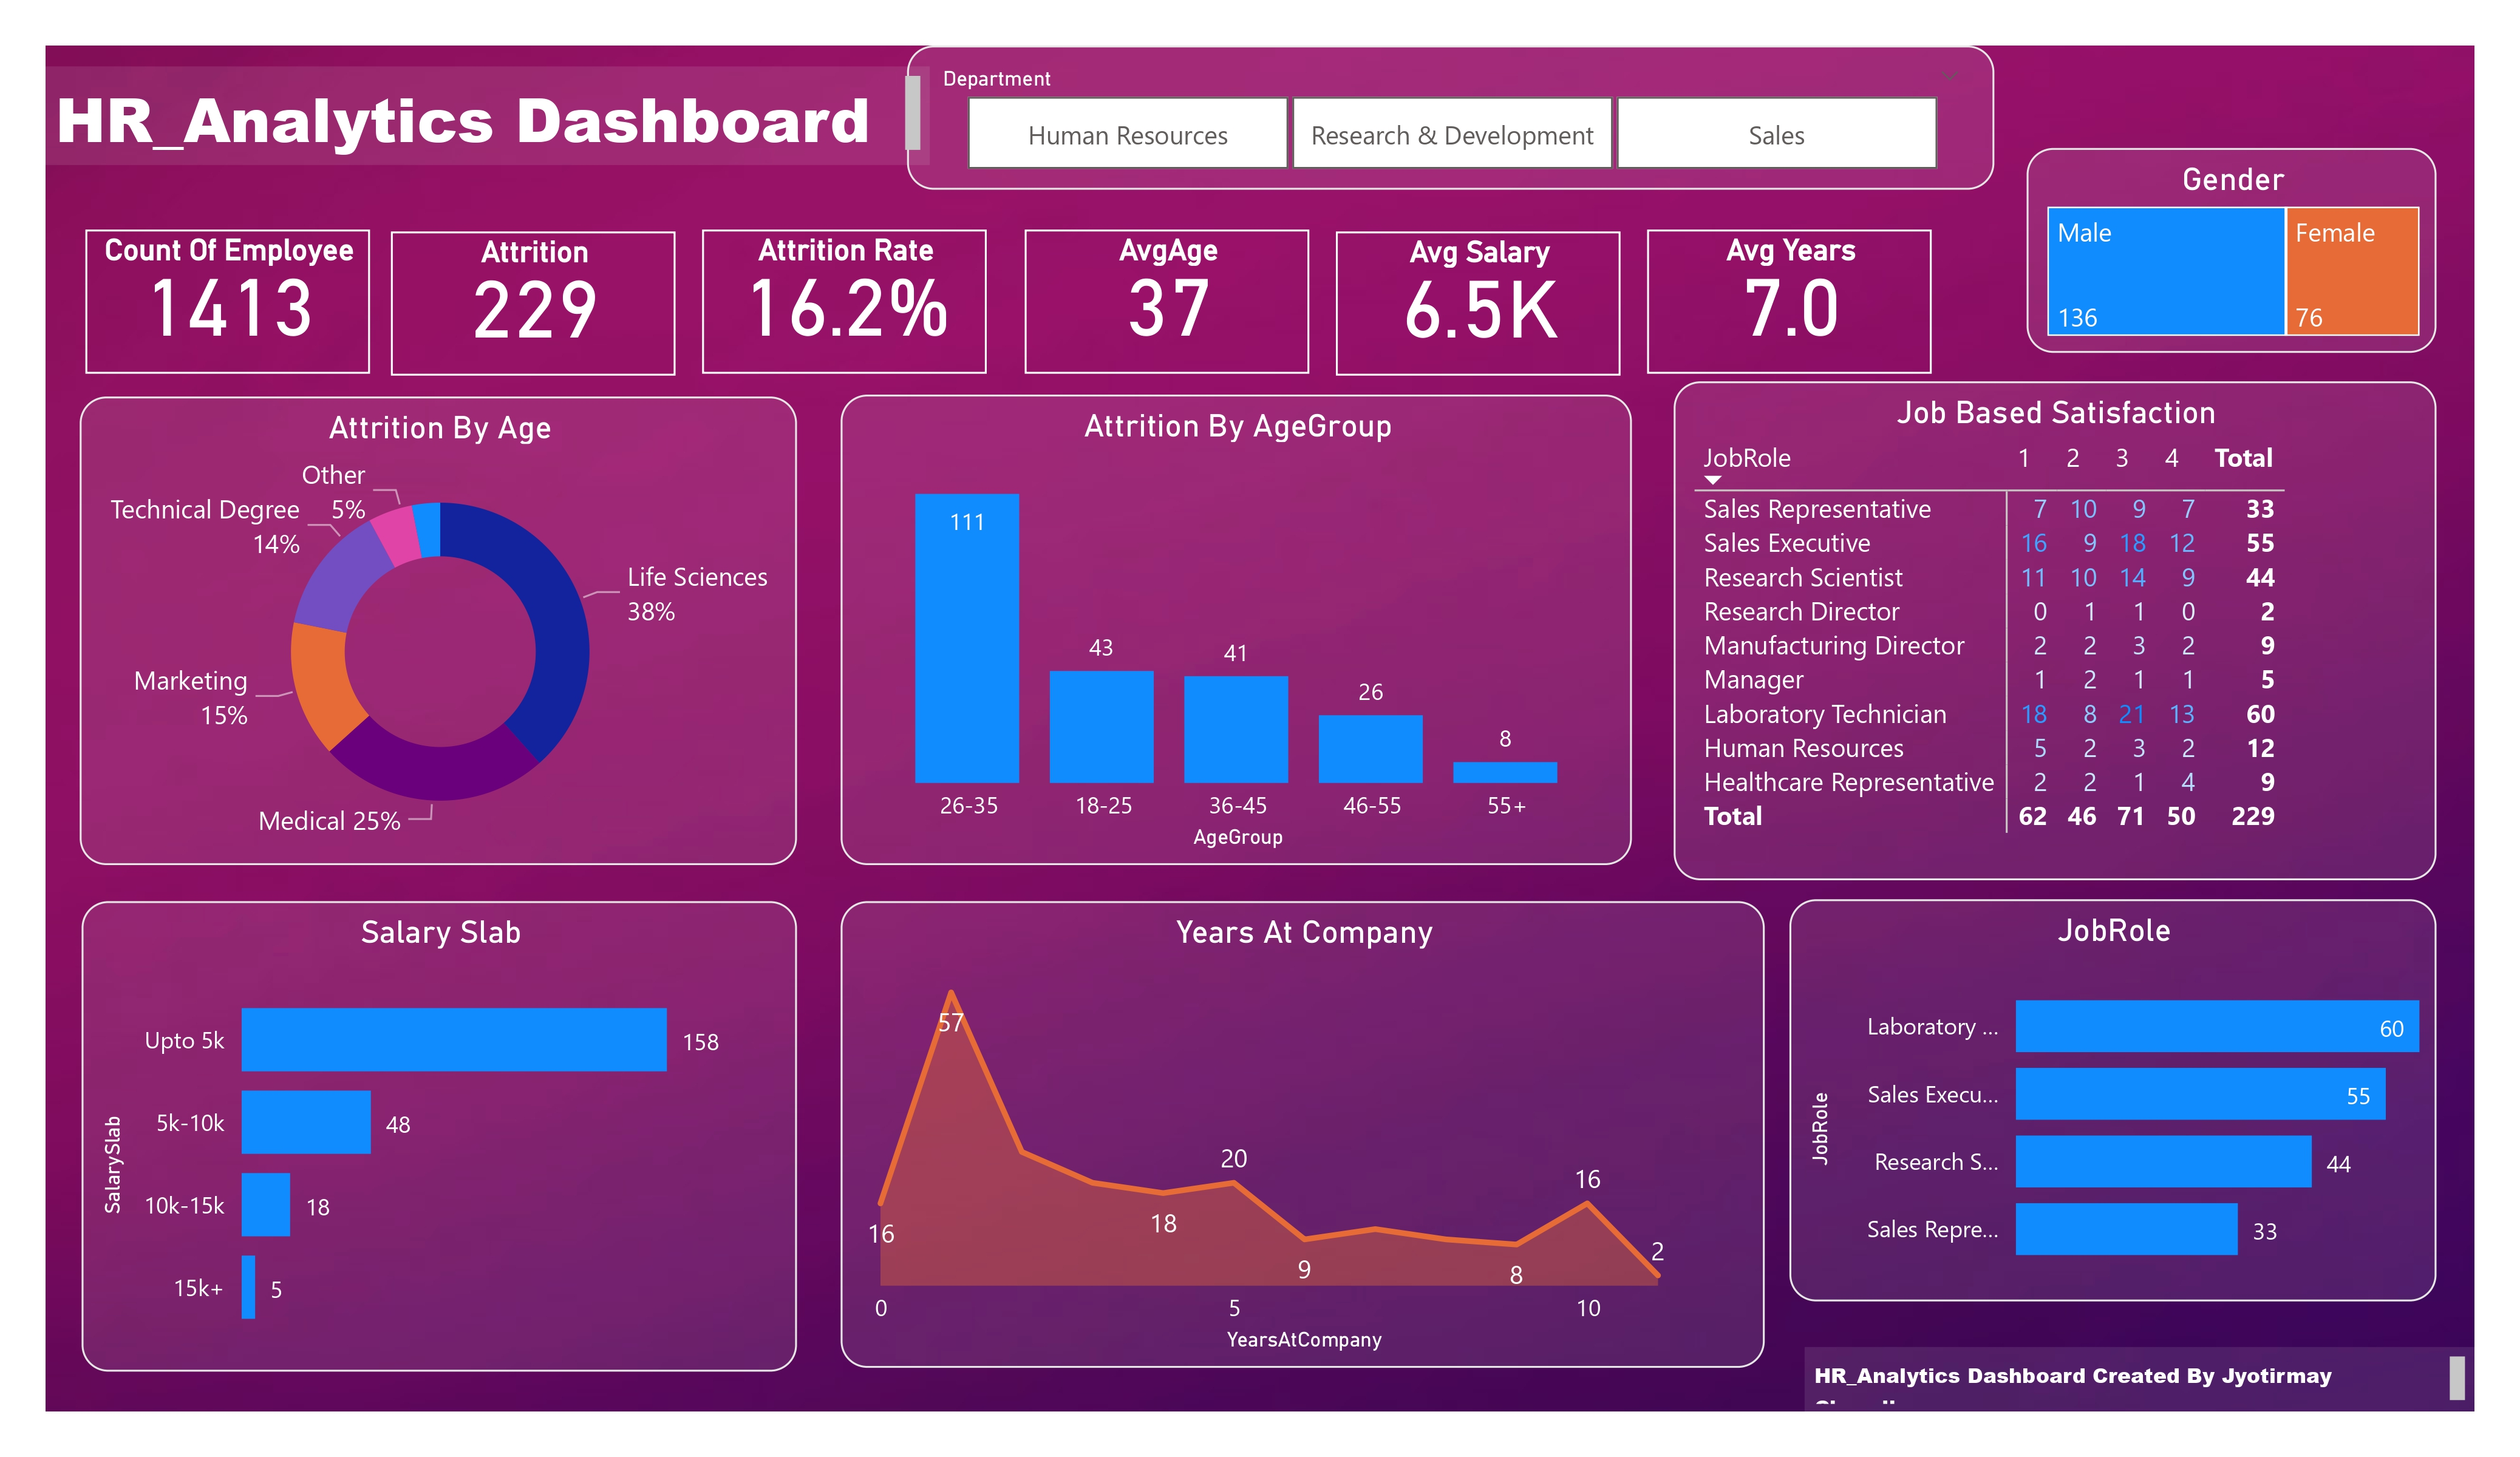

This screenshot's page, from the dashboard's own definition file:
{"tool":"powerbi","page":{"name":"Page 1","canvas":[1280,720],"ordinal":0},"visuals":[{"type":"card","title":"Count Of Employee","fields":{"Values":["CountNonNull(HR_Analytics.EmpID)"]},"box":[21.3,97.3,149.9,75.6],"z":0},{"type":"card","title":"Attrition Rate","fields":{"Values":["HR_Analytics.AttritionRate"]},"box":[345.8,96.9,149.9,75.6],"z":1000},{"type":"card","title":"AvgAge","fields":{"Values":["Avg(HR_Analytics.Age)"]},"box":[516.4,96.9,149.9,75.6],"z":2000},{"type":"card","title":"Attrition ","fields":{"Values":["Sum(HR_Analytics.AttritionCount)"]},"box":[182.2,98.3,149.9,75.6],"z":3000},{"type":"card","title":"Avg Salary ","fields":{"Values":["Avg(HR_Analytics.MonthlyIncome)"]},"box":[680,98.3,149.9,75.6],"z":4000},{"type":"card","title":"Avg Years","fields":{"Values":["Avg(HR_Analytics.YearsAtCompany)"]},"box":[843.7,96.9,149.9,75.6],"z":5000},{"type":"donutChart","title":"Attrition By Age","fields":{"Category":["HR_Analytics.EducationField"],"Y":["Sum(HR_Analytics.AttritionCount)"]},"box":[17.7,185.4,378.8,246.6],"z":6000},{"type":"columnChart","title":"Attrition By AgeGroup","fields":{"Category":["HR_Analytics.AgeGroup"],"Y":["Sum(HR_Analytics.AttritionCount)"]},"box":[419.5,184.3,416.7,247.5],"z":7000},{"type":"pivotTable","title":"Job Based Satisfaction","fields":{"Rows":["HR_Analytics.JobRole"],"Columns":["HR_Analytics.JobSatisfaction"],"Values":["Sum(HR_Analytics.AttritionCount)"]},"box":[858.2,177.4,401.6,262.7],"z":8000},{"type":"barChart","title":"Salary Slab","fields":{"Category":["HR_Analytics.SalarySlab"],"Y":["Sum(HR_Analytics.AttritionCount)"]},"box":[19.3,451.1,376.8,247.5],"z":9000},{"type":"barChart","title":"JobRole","fields":{"Category":["HR_Analytics.JobRole"],"Y":["Sum(HR_Analytics.AttritionCount)"]},"box":[918.7,449.7,341.1,211.8],"z":10000},{"type":"areaChart","title":"Years At Company","fields":{"Category":["HR_Analytics.YearsAtCompany"],"Y":["Sum(HR_Analytics.AttritionCount)"]},"box":[419.5,451.1,486.8,246.2],"z":11000},{"type":"treemap","title":"Gender","fields":{"Group":["HR_Analytics.Gender"],"Values":["Sum(HR_Analytics.AttritionCount)"]},"box":[1043.8,53.6,215.9,108.6],"z":12000},{"type":"slicer","fields":{"Values":["HR_Analytics.Department"]},"box":[453.8,0,573.5,75.6],"z":13000},{"type":"textbox","box":[0,11,466.2,52.3],"z":14000},{"type":"textbox","box":[926.9,686.3,353.4,34.4],"z":15000}]}

Visuals, with their boxes in screenshot pixels (x1, y1, x2, y2):
"Count Of Employee" card: detection(61, 228, 352, 375)
"Attrition Rate" card: detection(691, 228, 982, 374)
"AvgAge" card: detection(1023, 228, 1313, 374)
"Attrition " card: detection(373, 230, 664, 377)
"Avg Salary " card: detection(1340, 230, 1631, 377)
"Avg Years" card: detection(1658, 228, 1949, 374)
"Attrition By Age" donutChart: detection(54, 399, 789, 878)
"Attrition By AgeGroup" columnChart: detection(834, 397, 1643, 877)
"Job Based Satisfaction" pivotTable: detection(1686, 384, 2465, 894)
"Salary Slab" barChart: detection(57, 915, 789, 1396)
"JobRole" barChart: detection(1803, 912, 2465, 1323)
"Years At Company" areaChart: detection(834, 915, 1779, 1393)
"Gender" treemap: detection(2046, 143, 2465, 354)
slicer - HR_Analytics.Department: detection(901, 39, 2014, 186)
textbox: detection(19, 61, 925, 162)
textbox: detection(1819, 1371, 2505, 1438)
